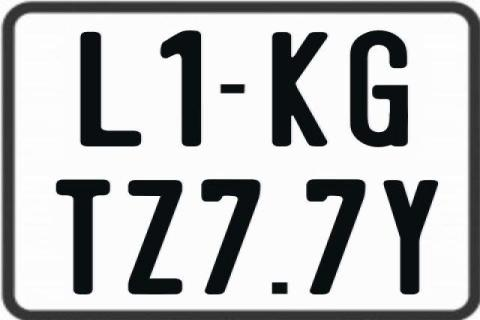0: (303, 177, 368, 292), (200, 177, 261, 292), (160, 29, 202, 147)
G: (349, 30, 410, 148)
K: (270, 30, 328, 144)
L: (79, 29, 140, 149)
T: (56, 179, 115, 296)
Y: (381, 179, 439, 297)
Z: (128, 179, 184, 297)
